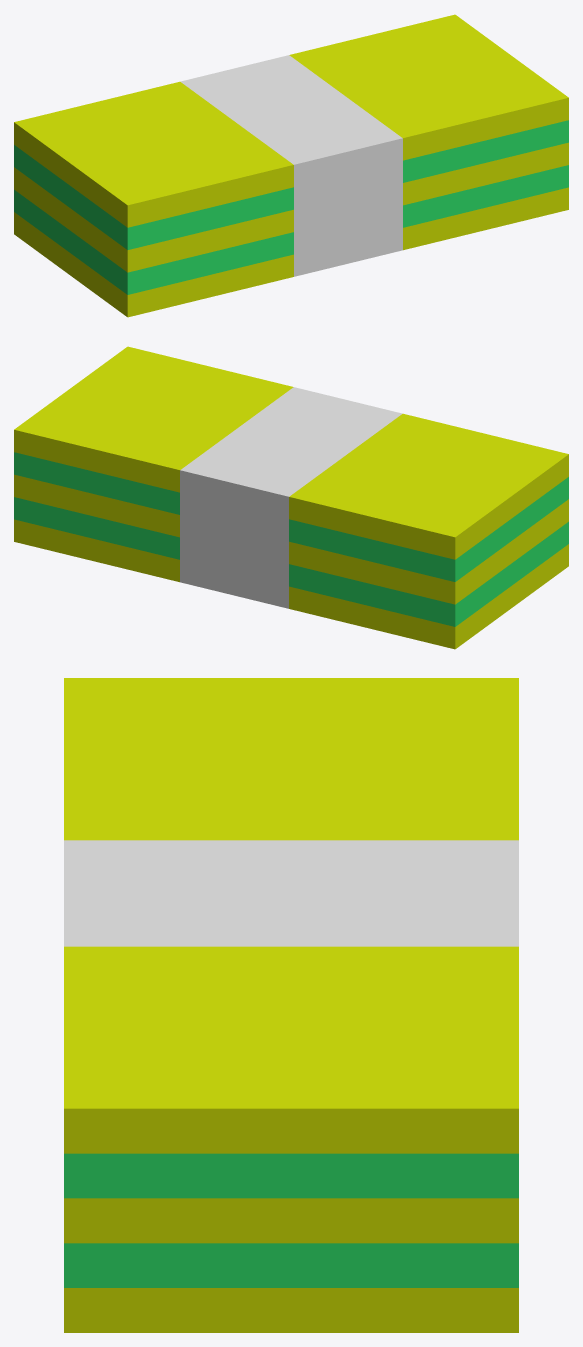
The model's file is Note.fbx.
3 views of the same model, one above another, from view 1: azimuth 30°, elevation 25°; view 2: azimuth 150°, elevation 25°; view 3: azimuth 270°, elevation 25° (orthographic). The views are drawn at different scales.
Parts seen in each view (by area): view 1: Cube; view 2: Cube; view 3: Cube.
Boxes of the visible parts, x1,y1,x2,y2 form: Cube: (14,14,568,317); Cube: (14,346,568,649); Cube: (64,678,518,1332).
Size of the model in its own units: 8.07 by 1.96 by 3.6.
